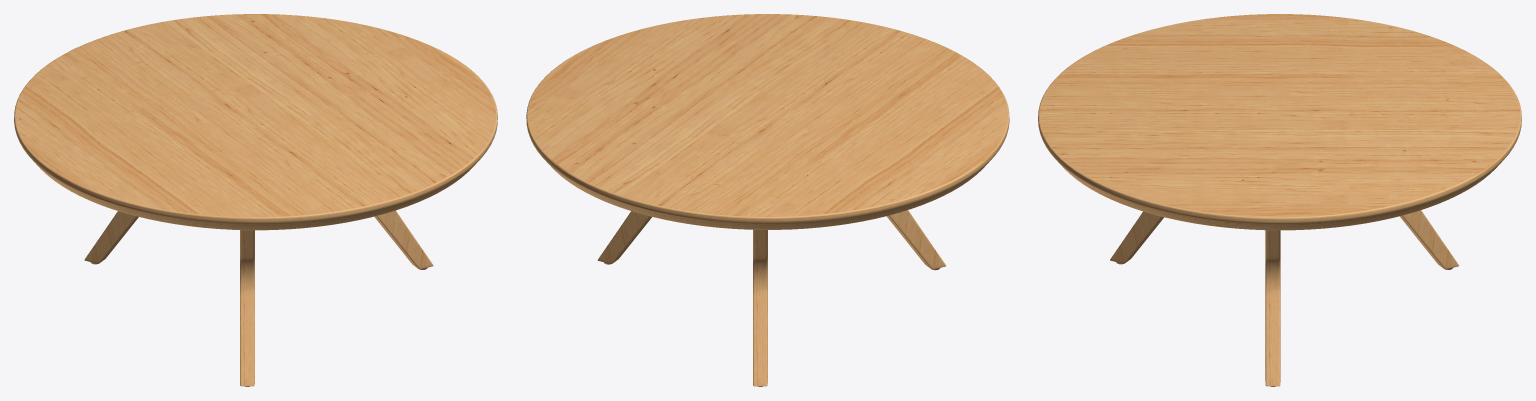
The model's file is table.FBX.
The picture shows the model from 3 angles, left to right: view 1: azimuth 30°, elevation 25°; view 2: azimuth 150°, elevation 25°; view 3: azimuth 270°, elevation 25°; orthographic projection.
Visible parts, largest first — view 1: Table_Dotta; view 2: Table_Dotta; view 3: Table_Dotta.
Boxes of the visible parts, left/top/right/bottom form: Table_Dotta: left=14, top=14, right=497, bottom=386; Table_Dotta: left=526, top=14, right=1009, bottom=386; Table_Dotta: left=1038, top=14, right=1521, bottom=386.
Bounding box in the file's own units: 80 × 34.62 × 80.
Materials: 1 (1 with a texture image).
